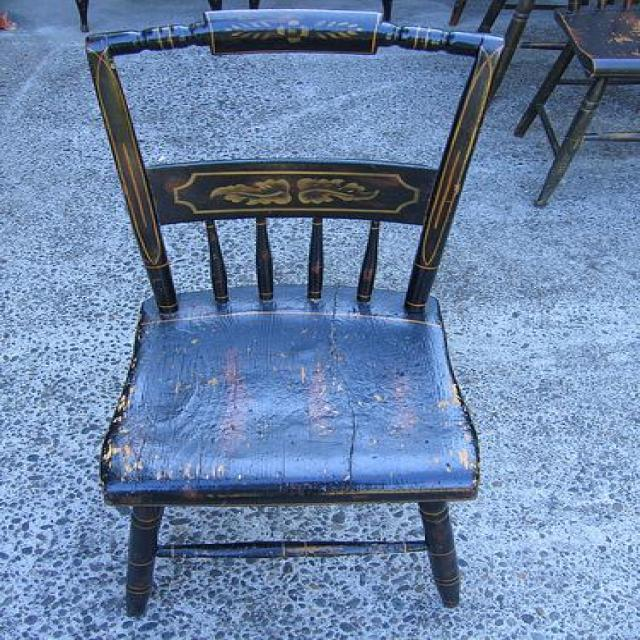chair: (87, 11, 504, 606)
